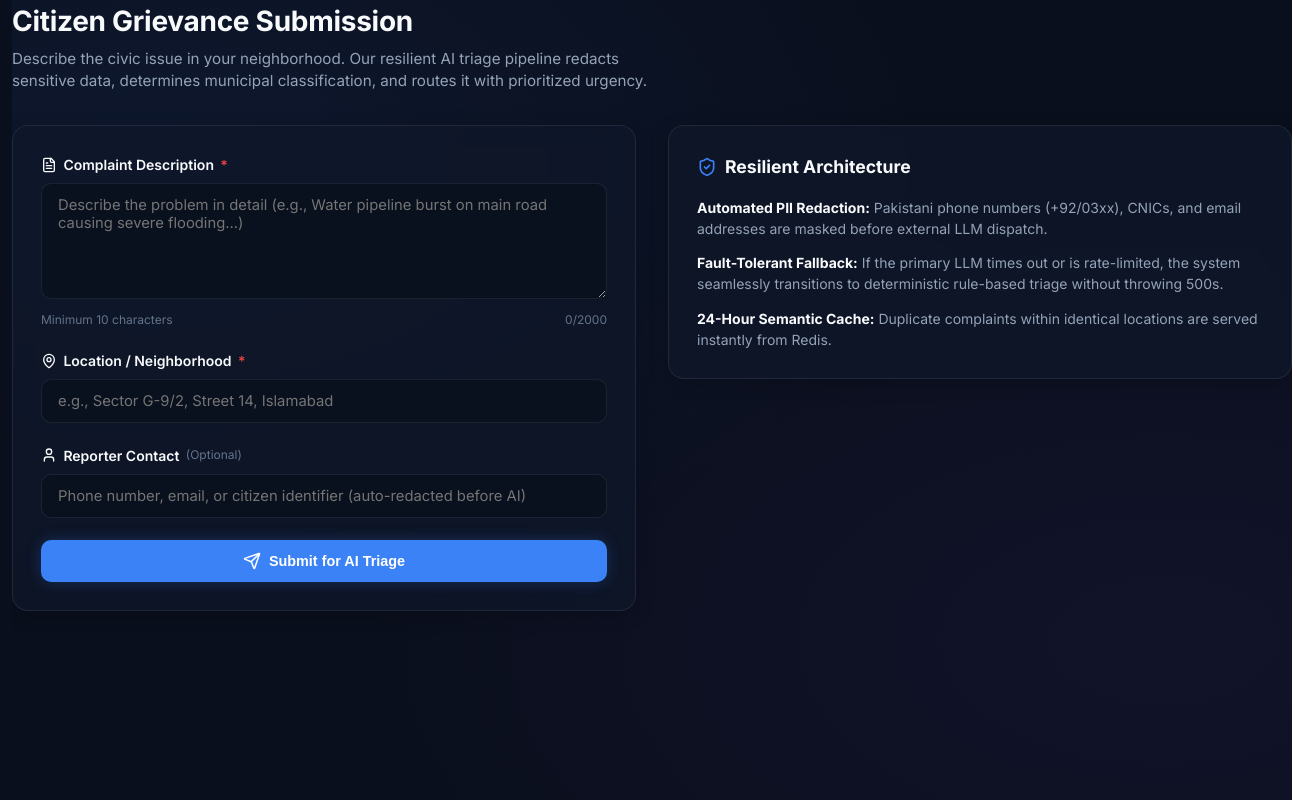
Test: SubmitView Client-Side Validation › blocks submission and shows field validation errors when inputs are invalid
Click the button "Submit for AI Triage" at [324, 561], box x1=41 y1=540 x2=607 y2=582
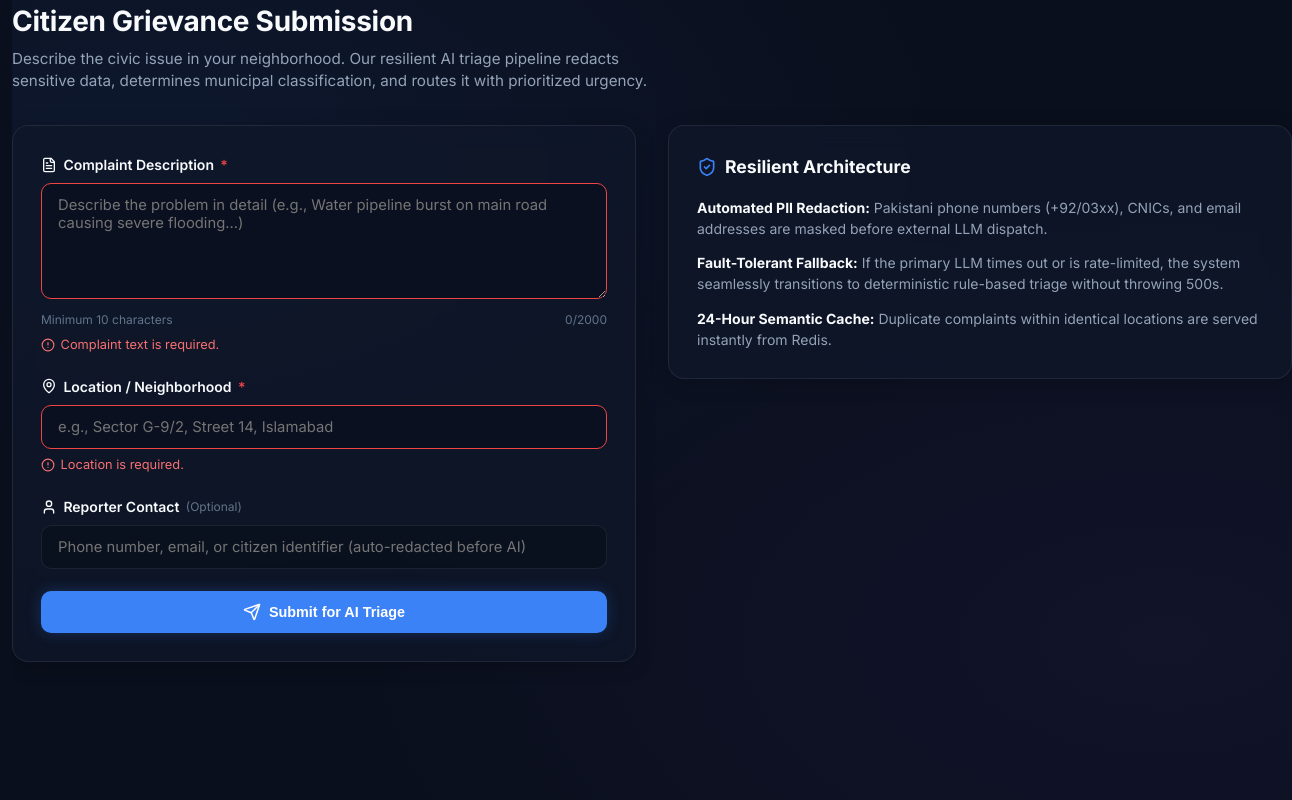
Expected: the text "Complaint text is required." is shown, x1=41 y1=337 x2=219 y2=352
Expected: the text "Location is required." is shown, x1=41 y1=457 x2=184 y2=472
